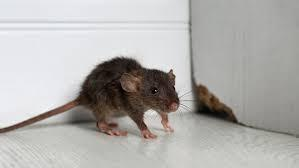rat: (0, 56, 180, 148)
